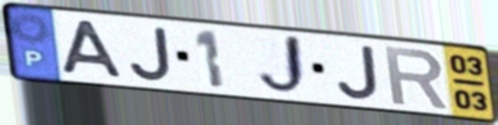1: (193, 29, 228, 91)
A: (59, 18, 126, 81)
J: (254, 32, 311, 99), (126, 24, 175, 84), (335, 43, 383, 102)
R: (381, 44, 451, 111)
